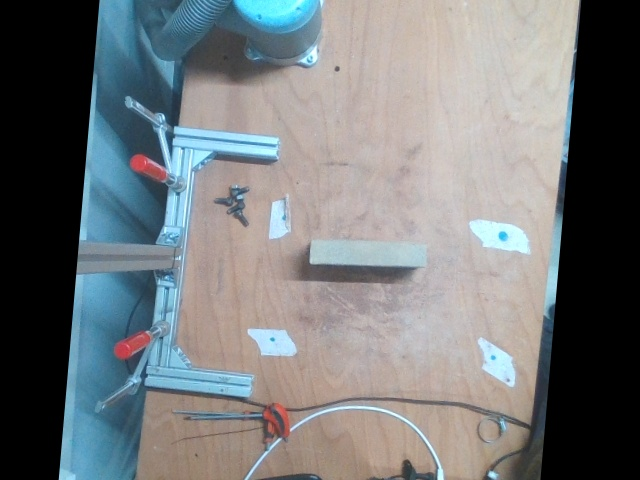brick-side: (313, 243, 423, 263)
